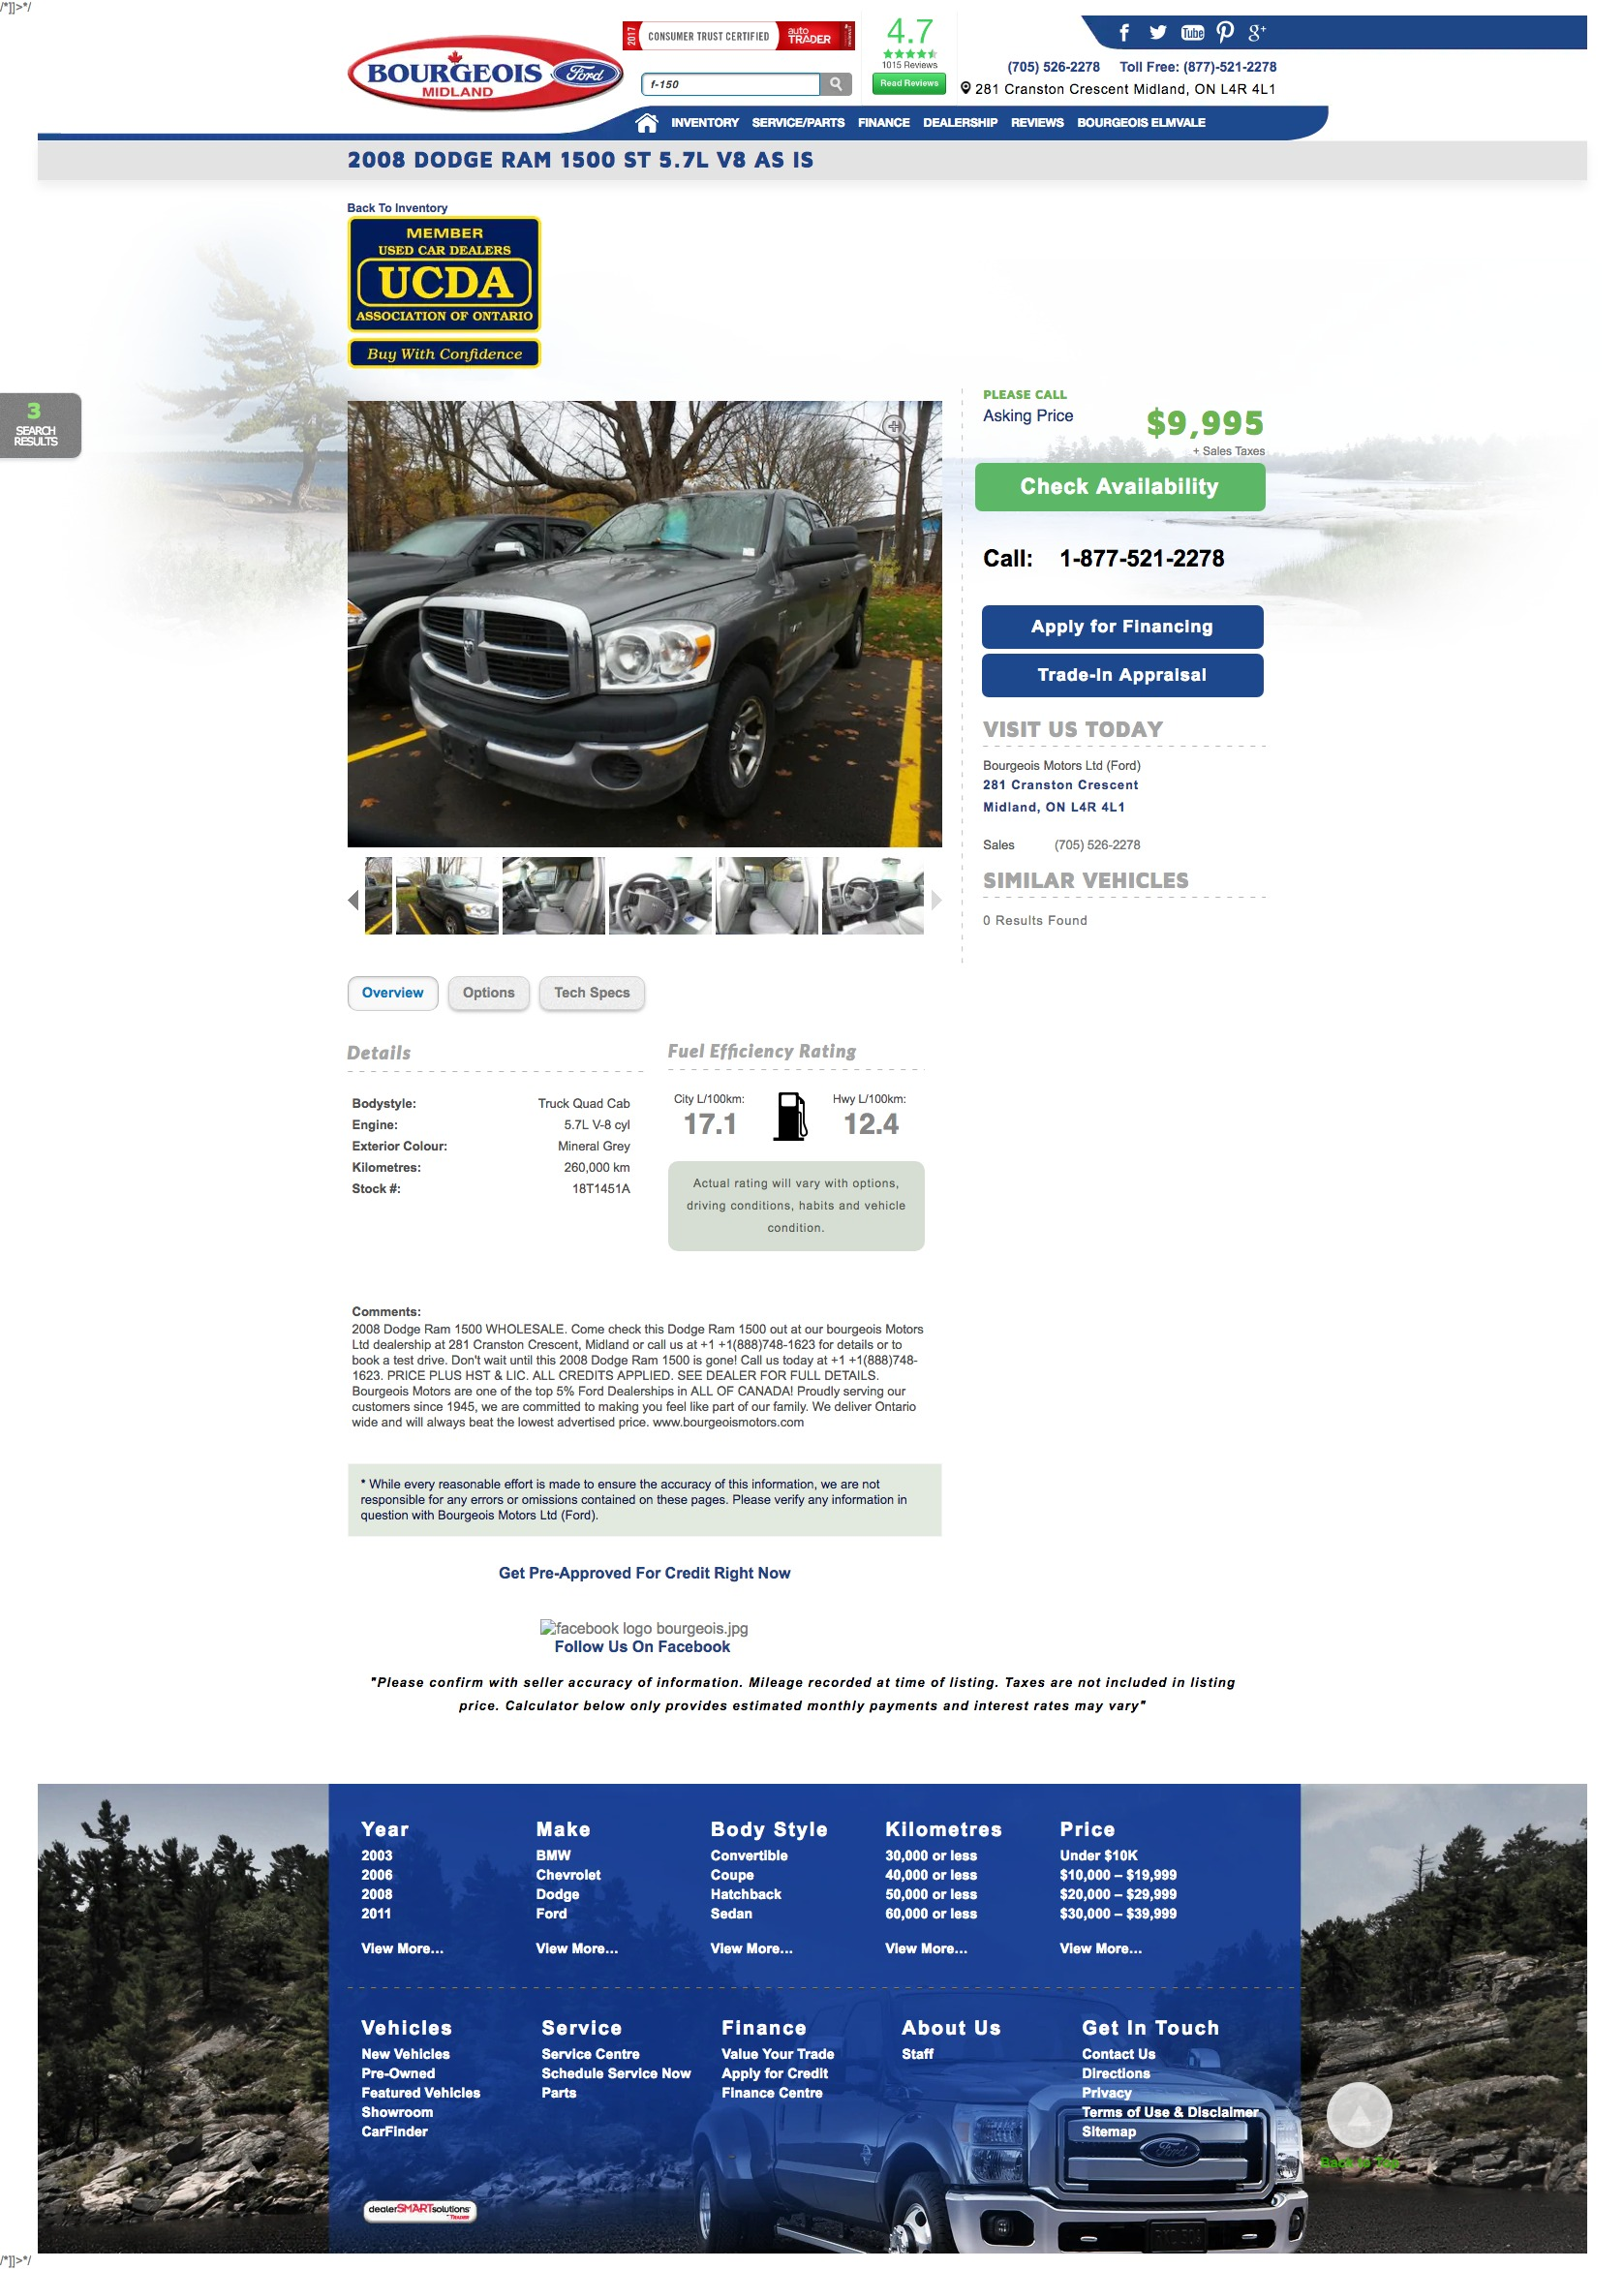car: (932, 891, 942, 910)
